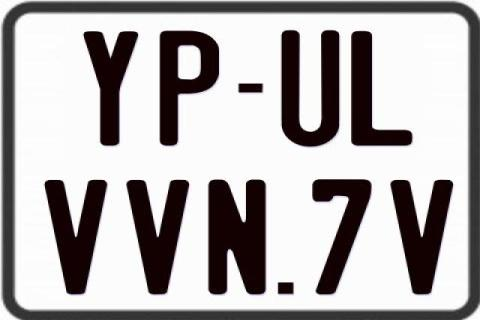0: (311, 177, 373, 295)
L: (351, 29, 413, 147)
N: (206, 179, 264, 296)
P: (157, 30, 219, 146)
U: (281, 30, 342, 146)
V: (45, 180, 110, 298), (127, 180, 192, 298), (390, 177, 452, 297)
Y: (80, 29, 140, 149)
